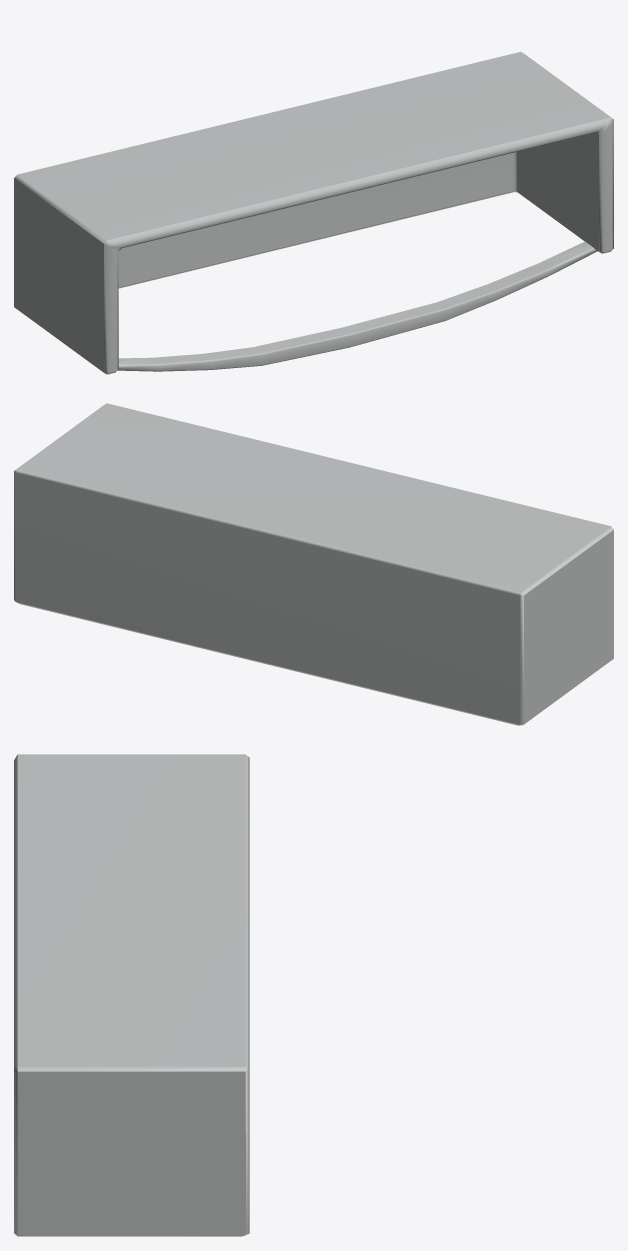
Rendered from FridgeDrawer1_28_FridgeDrawer1E4_2_GeomSubset_1.obj.
3 views of the same model, one above another, from view 1: azimuth 30°, elevation 25°; view 2: azimuth 150°, elevation 25°; view 3: azimuth 270°, elevation 25° (orthographic). The views are drawn at different scales.
Parts seen in each view (by area): view 1: FridgeDrawer1_28_FridgeDrawer1E4_2_GeomSubset_1; view 2: FridgeDrawer1_28_FridgeDrawer1E4_2_GeomSubset_1; view 3: FridgeDrawer1_28_FridgeDrawer1E4_2_GeomSubset_1.
Boxes of the visible parts, x1,y1,x2,y2 form: FridgeDrawer1_28_FridgeDrawer1E4_2_GeomSubset_1: (14, 51, 613, 374); FridgeDrawer1_28_FridgeDrawer1E4_2_GeomSubset_1: (14, 403, 613, 725); FridgeDrawer1_28_FridgeDrawer1E4_2_GeomSubset_1: (14, 754, 249, 1236).
Bounding box in the file's own units: 0.7769 × 0.2499 × 0.6238.
